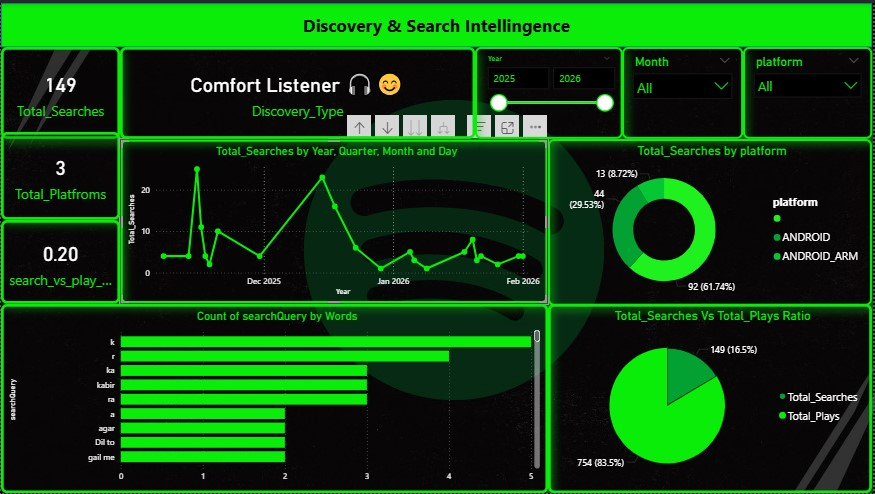

The page's visual inventory and layout, read from the dashboard file:
{"tool":"powerbi","page":{"name":"Page 4","canvas":[1280,720],"ordinal":3},"visuals":[{"type":"shape","box":[0,0,1279.8,64.7],"z":0},{"type":"card","fields":{"Values":["SearchQueries.Total_Searches"]},"box":[0,64.7,174.9,135.2],"z":1000},{"type":"donutChart","fields":{"Y":["SearchQueries.Total_Searches"],"Category":["SearchQueries.platform"]},"box":[803.8,199.8,476.1,245.4],"z":2000},{"type":"card","fields":{"Values":["SearchQueries.Total_Platfroms"]},"box":[0,199.8,174.9,119],"z":3000},{"type":"lineChart","fields":{"Y":["SearchQueries.Total_Searches"],"Category":["SearchQueries.searchTime.Variation.Date Hierarchy.Year","SearchQueries.searchTime.Variation.Date Hierarchy.Quarter","SearchQueries.searchTime.Variation.Date Hierarchy.Month","SearchQueries.searchTime.Variation.Date Hierarchy.Day"]},"box":[174.9,199.8,628.9,242.4],"z":4000},{"type":"card","fields":{"Values":["SearchQueries.search_vs_play_ratio"]},"box":[0,318.9,174.9,123.4],"z":5000},{"type":"pieChart","title":"Total_Searches Vs Total_Plays Ratio","fields":{"Y":["SearchQueries.Total_Searches","SearchQueries.Total_Plays"]},"box":[803.8,442.3,476.1,277.7],"z":6000},{"type":"clusteredBarChart","title":"Count of searchQuery by Words","fields":{"Category":["SearchQueries.searchQuery"],"Y":["CountNonNull(SearchQueries.searchQuery)"]},"box":[0,442.3,803.8,277.7],"z":7000},{"type":"card","fields":{"Values":["Activity_Type.Discovery_Type"]},"box":[174.9,64.7,521.6,135.2],"z":8000},{"type":"slicer","fields":{"Values":["SearchQueries.searchTime.Variation.Date Hierarchy.Year"]},"box":[696.5,64.7,217.5,135.2],"z":9000},{"type":"slicer","fields":{"Values":["SearchQueries.searchTime.Variation.Date Hierarchy.Month"]},"box":[912.5,64.7,177.8,135.2],"z":10000},{"type":"slicer","fields":{"Values":["SearchQueries.platform"]},"box":[1090.3,64.7,189.6,135.2],"z":11000},{"type":"image","box":[371.8,0,82.3,64.7],"z":12000},{"type":"actionButton","box":[0,0,42.6,39.7],"z":12001}]}

Visuals, with their boxes in screenshot pixels (x1, y1, x2, y2), scaled from the page's 1280x720 canvas onto the 875x494 screenshot:
shape: 0/0/874/44
card - SearchQueries.Total_Searches: 0/44/120/137
donutChart - SearchQueries.Total_Searches x SearchQueries.platform: 549/137/874/305
card - SearchQueries.Total_Platfroms: 0/137/120/219
lineChart - SearchQueries.Total_Searches x SearchQueries.searchTime.Variation.Date Hierarchy.Year: 120/137/549/303
card - SearchQueries.search_vs_play_ratio: 0/219/120/303
"Total_Searches Vs Total_Plays Ratio" pieChart: 549/303/874/493
"Count of searchQuery by Words" clusteredBarChart: 0/303/549/493
card - Activity_Type.Discovery_Type: 120/44/476/137
slicer - SearchQueries.searchTime.Variation.Date Hierarchy.Year: 476/44/625/137
slicer - SearchQueries.searchTime.Variation.Date Hierarchy.Month: 624/44/745/137
slicer - SearchQueries.platform: 745/44/874/137
image: 254/0/310/44
actionButton: 0/0/29/27
